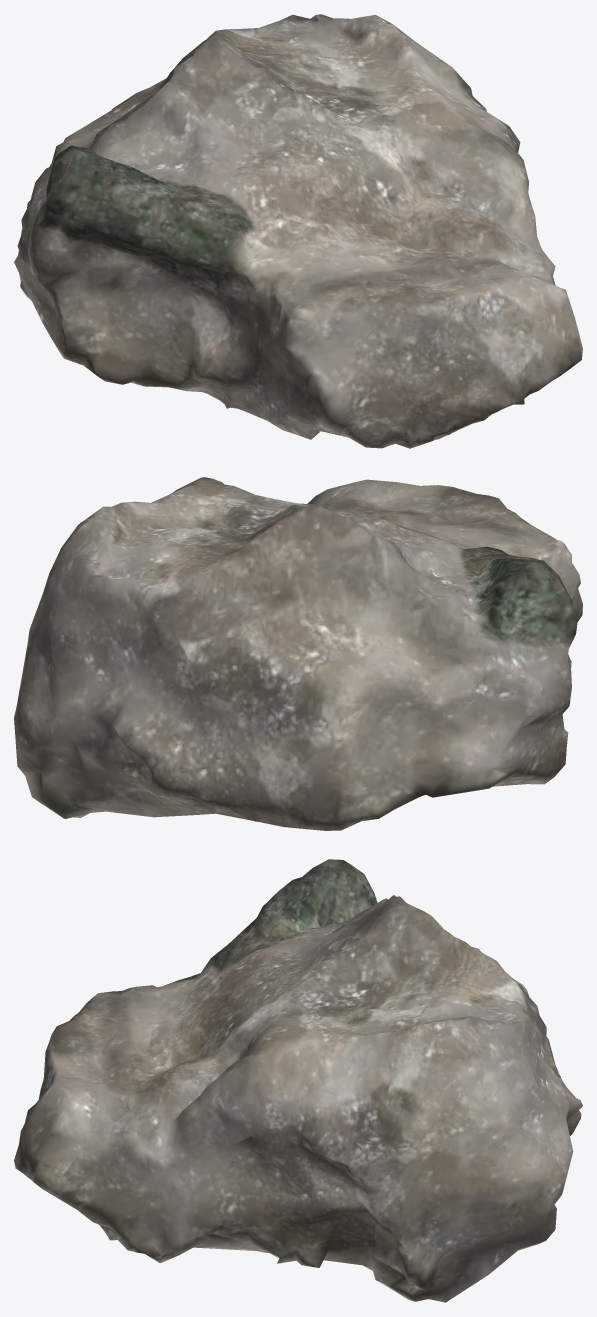
The model's file is emerald_in_quartz__for_games.glb.
The picture shows the model from 3 angles, top to bottom: view 1: azimuth 30°, elevation 25°; view 2: azimuth 150°, elevation 25°; view 3: azimuth 270°, elevation 25°; orthographic projection. The views are drawn at different scales.
Visible parts, largest first — view 1: Object_2; view 2: Object_2; view 3: Object_2.
Boxes of the visible parts, <box> form: Object_2: <box>14,14,582,448</box>; Object_2: <box>14,477,582,830</box>; Object_2: <box>14,859,582,1302</box>.
Bounding box in the file's own units: 1.3 × 0.8363 × 1.45.
Materials: 1 (1 with a texture image).
